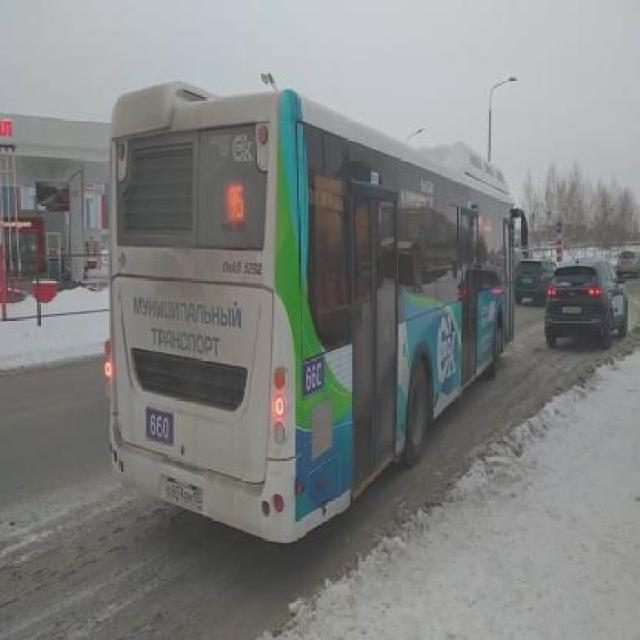bus: (104, 79, 530, 546)
